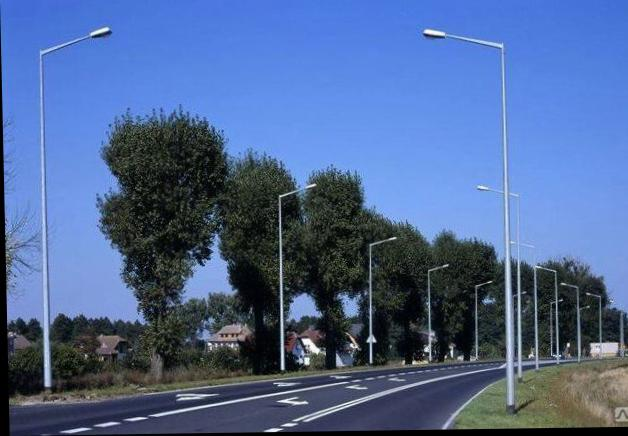Animal: (422, 19, 529, 409), (20, 22, 119, 378), (264, 176, 317, 378), (356, 227, 402, 369), (418, 251, 451, 360), (537, 257, 560, 365), (466, 275, 496, 356), (558, 274, 578, 362), (583, 283, 606, 352), (613, 303, 628, 355)
